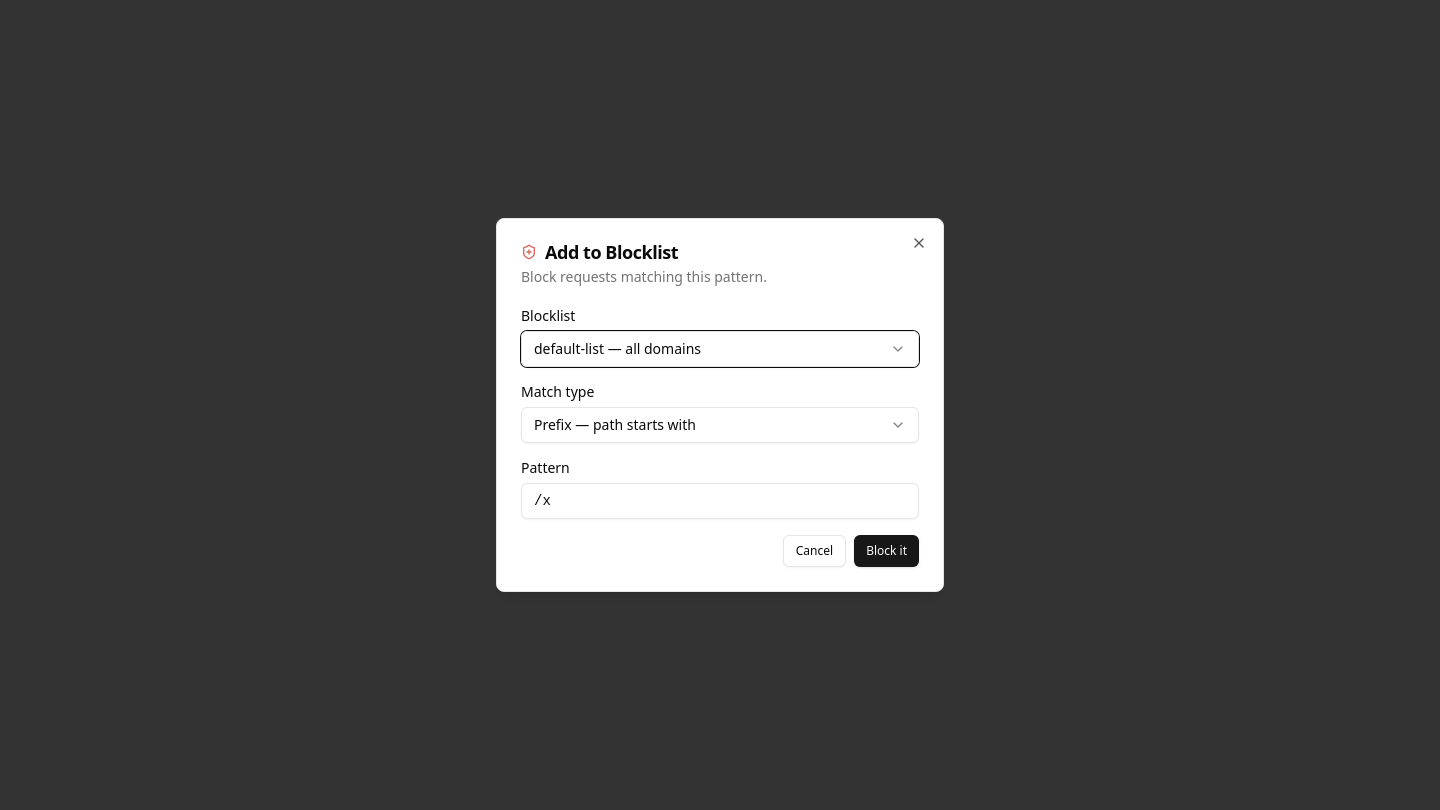
Test: AddToBlocklistDialog › surfaces the backend validation error and stays open
Click the button "Block it" at coordinates (887, 551), box [854,535,919,567]
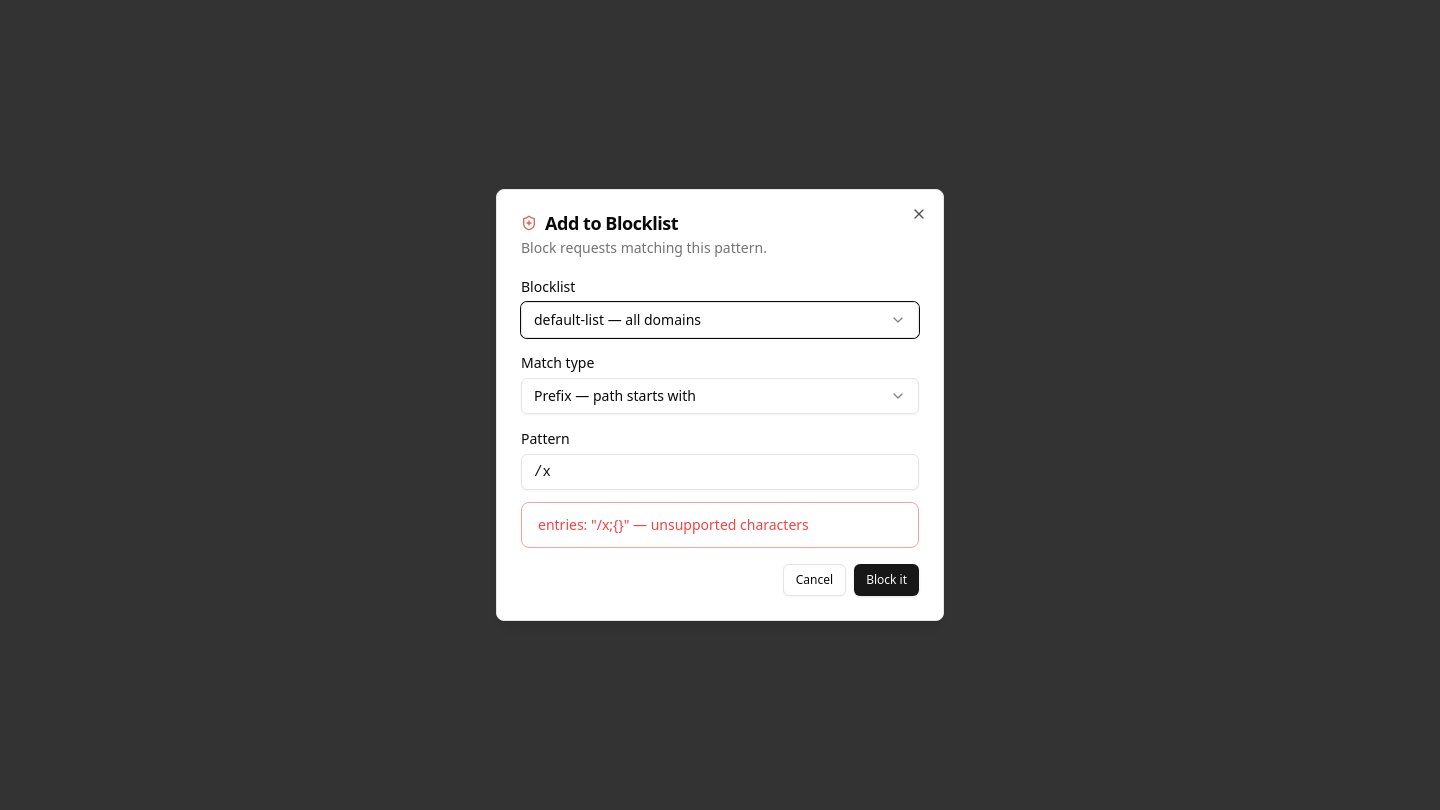
Check: the text "entries: \"/x;{}\" — unsupported characters" is shown, box [538,515,809,534]
